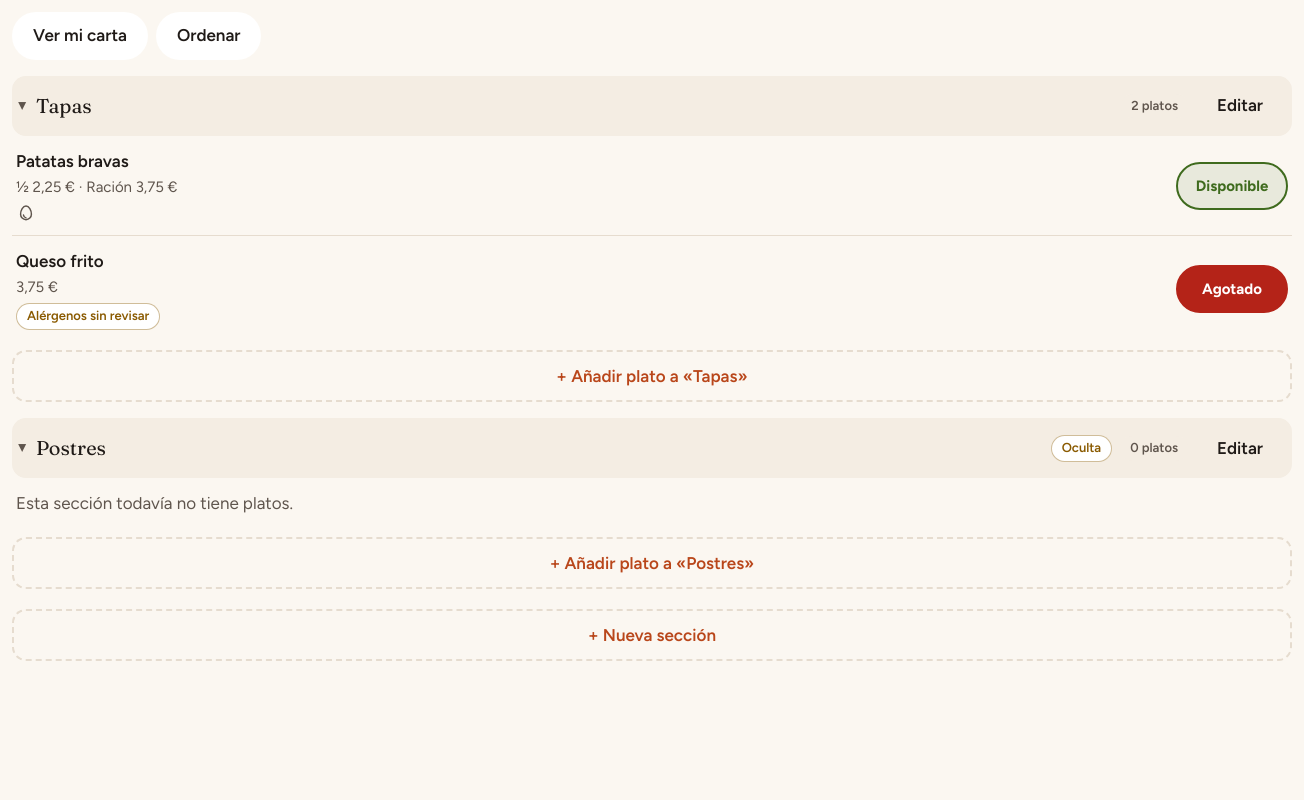
Test case: ListaCarta › pliega una sección
Click the button "▸ Tapas" at (64, 106), box x1=20 y1=82 x2=1113 y2=130
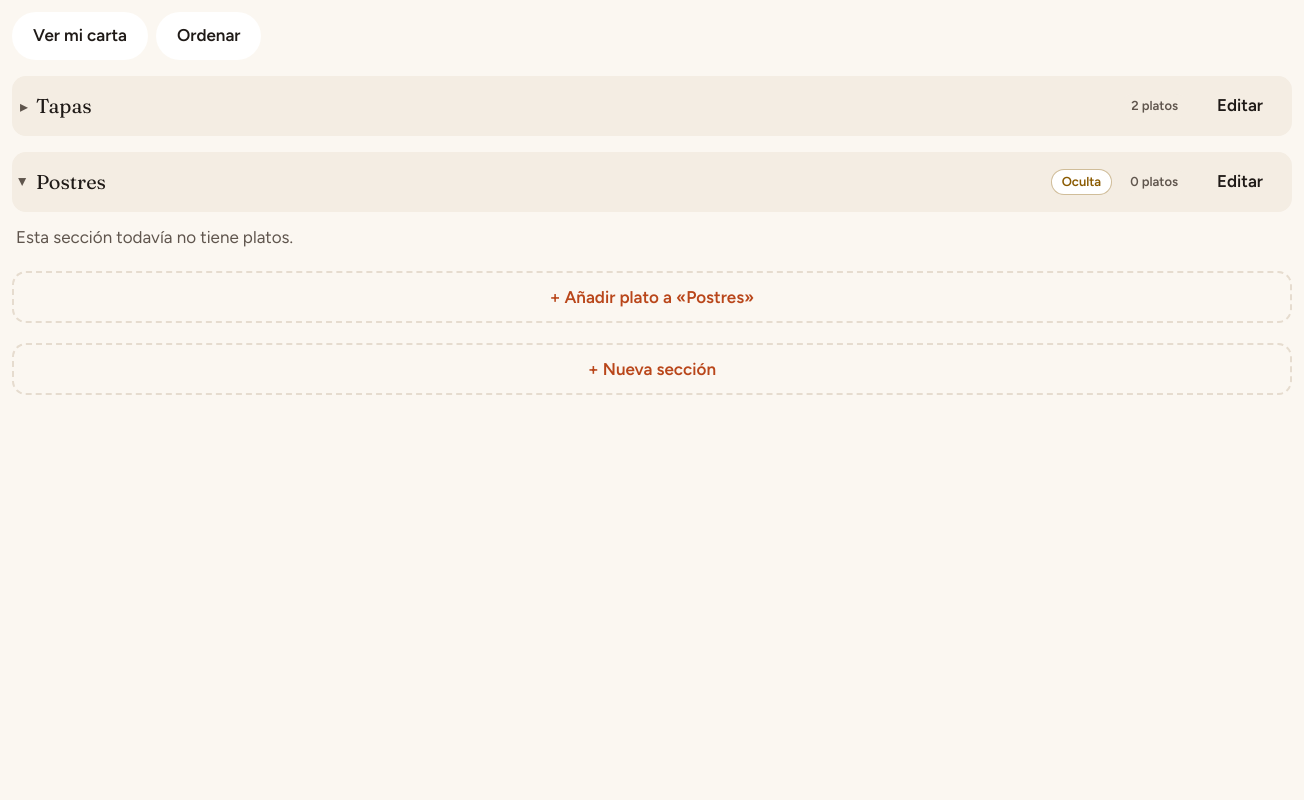
expect the link "Patatas bravas" is gone: met
